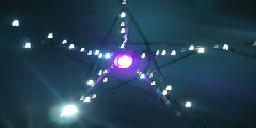LED: (60, 37, 103, 59), (107, 48, 141, 73), (57, 102, 88, 122), (46, 30, 55, 43)
